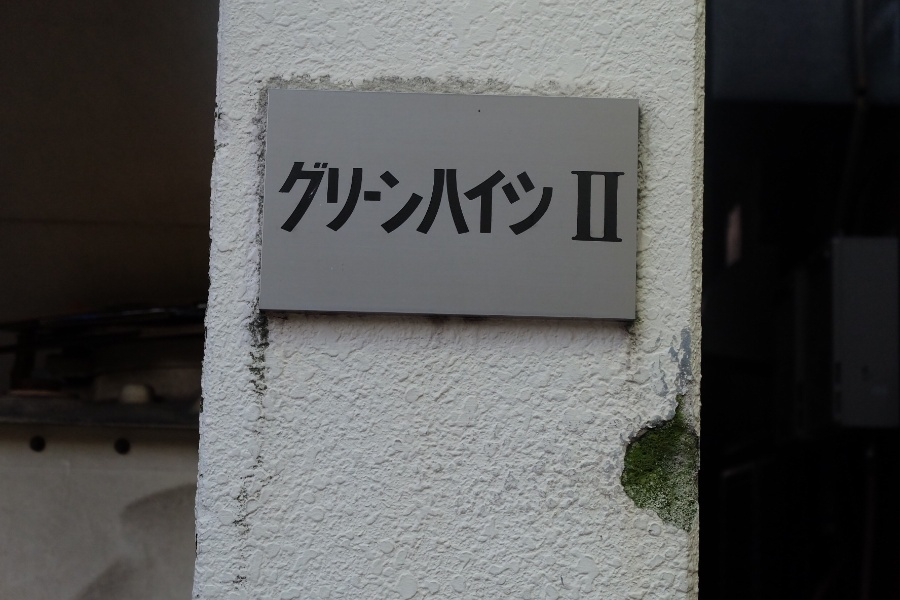text: (289, 156, 304, 238), (305, 156, 320, 238), (321, 156, 336, 238), (337, 156, 352, 238), (353, 156, 368, 238), (369, 156, 384, 238), (385, 156, 400, 238), (401, 156, 416, 238), (417, 156, 432, 238), (433, 156, 448, 238), (449, 156, 464, 238), (465, 156, 480, 238), (481, 156, 496, 238), (497, 156, 512, 238), (513, 156, 528, 238), (529, 156, 544, 238), (577, 169, 592, 245), (593, 169, 608, 245), (609, 169, 624, 245), (545, 156, 556, 238), (571, 169, 576, 245), (285, 156, 288, 238)
